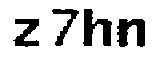7: (46, 6, 80, 47)
h: (82, 5, 114, 52)
n: (117, 13, 148, 53)
z: (10, 17, 47, 51)
